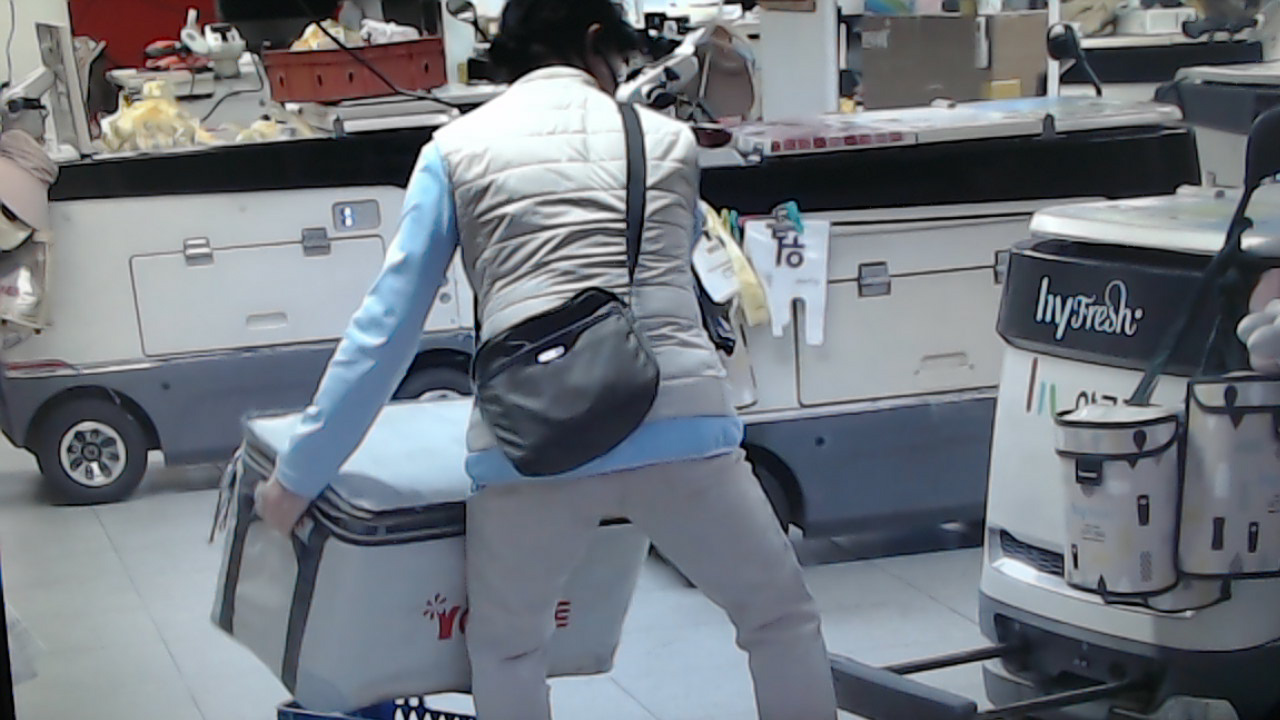Yakurut: (244, 6, 845, 720)
